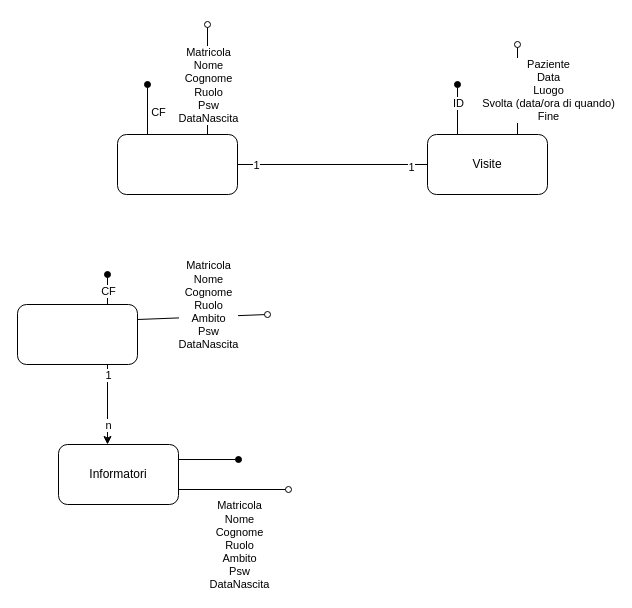
The diagram is 632 pixels wide and 608 high, and some of its shapes have lost their labels. Here are the shapes that lost their labels. From the top down, the box of each, then its label:
(116, 134, 238, 194): Personale
(16, 304, 138, 364): Professionisti
